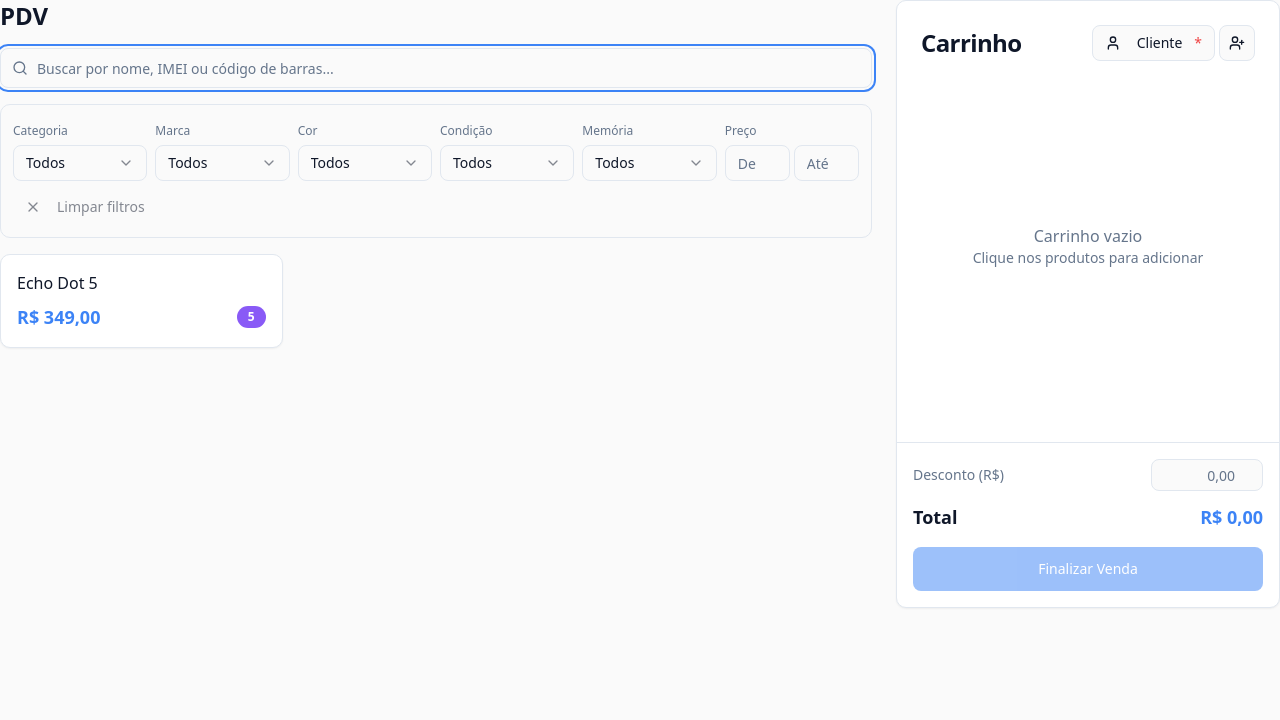
Test: PDV: o que a loja exige para fechar a venda › com o cliente exigido, não deixa nem abrir o pagamento
Click the text "Echo Dot 5": (57, 283) [17, 272, 98, 294]
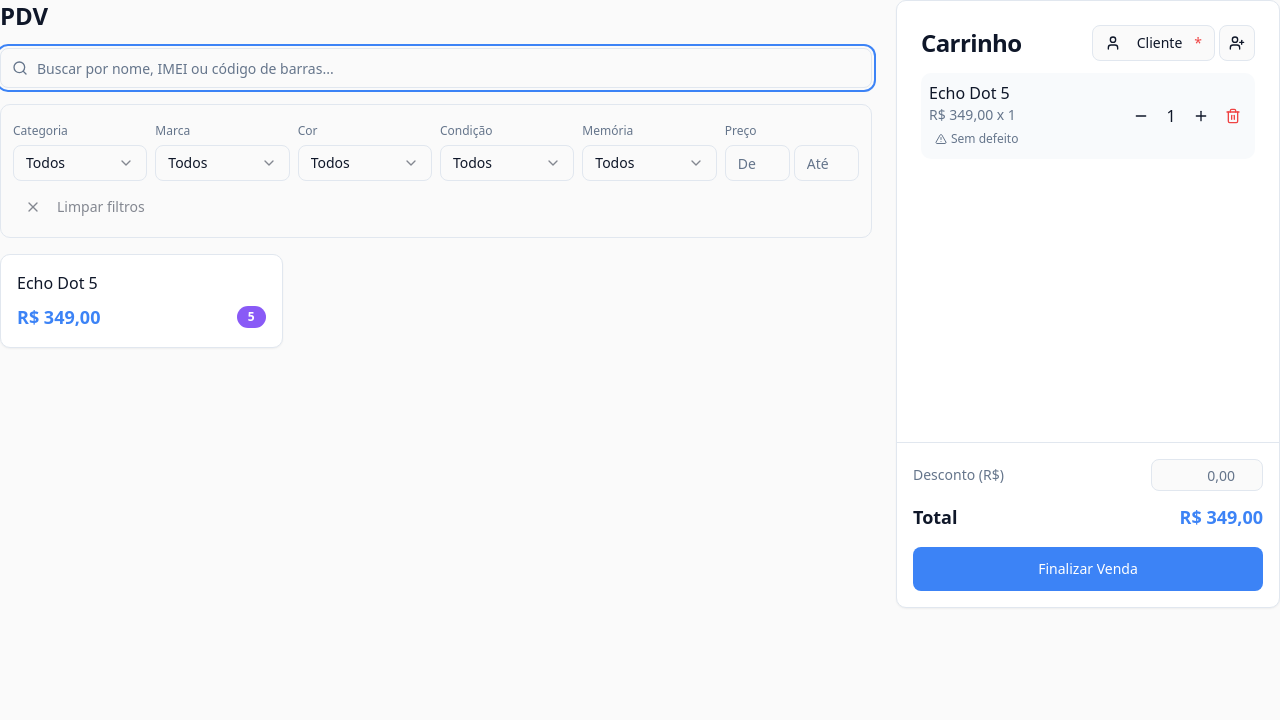
Check: the button "Finalizar Venda" is enabled
Click the button "Finalizar Venda": (1088, 569) [913, 547, 1263, 591]
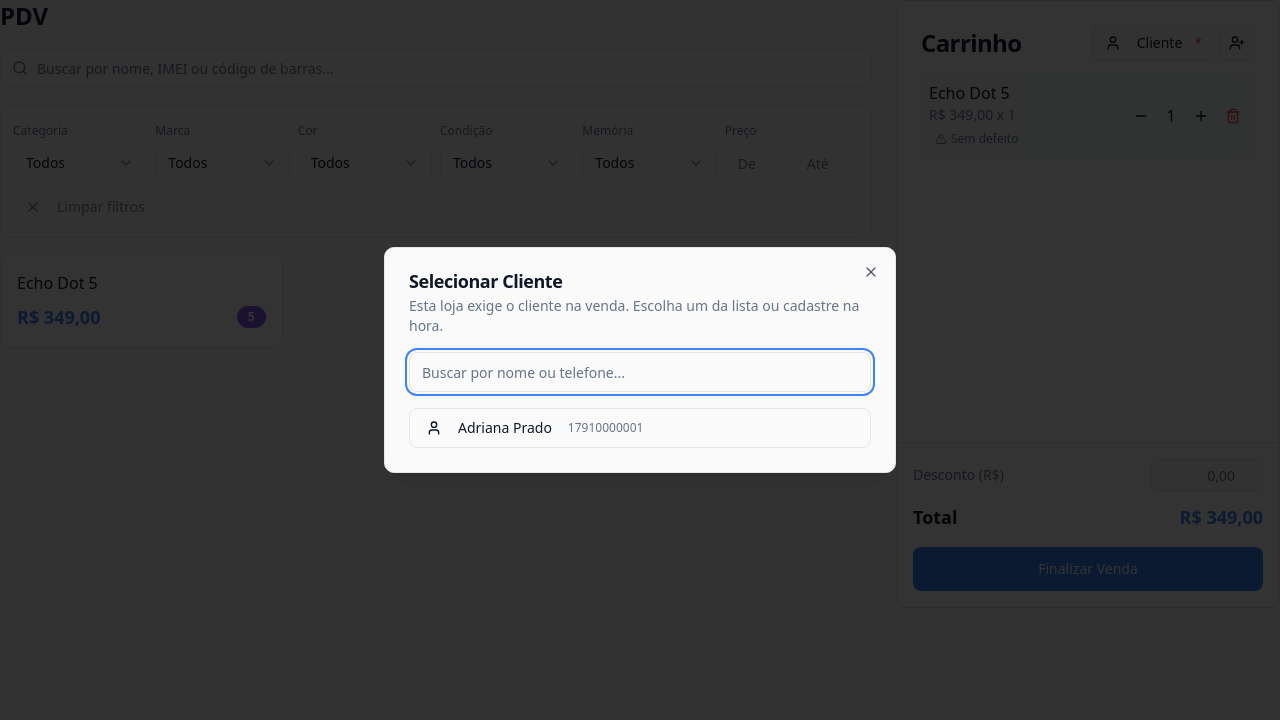
Check: the heading "Selecionar Cliente" is shown, box [409, 269, 562, 293]
